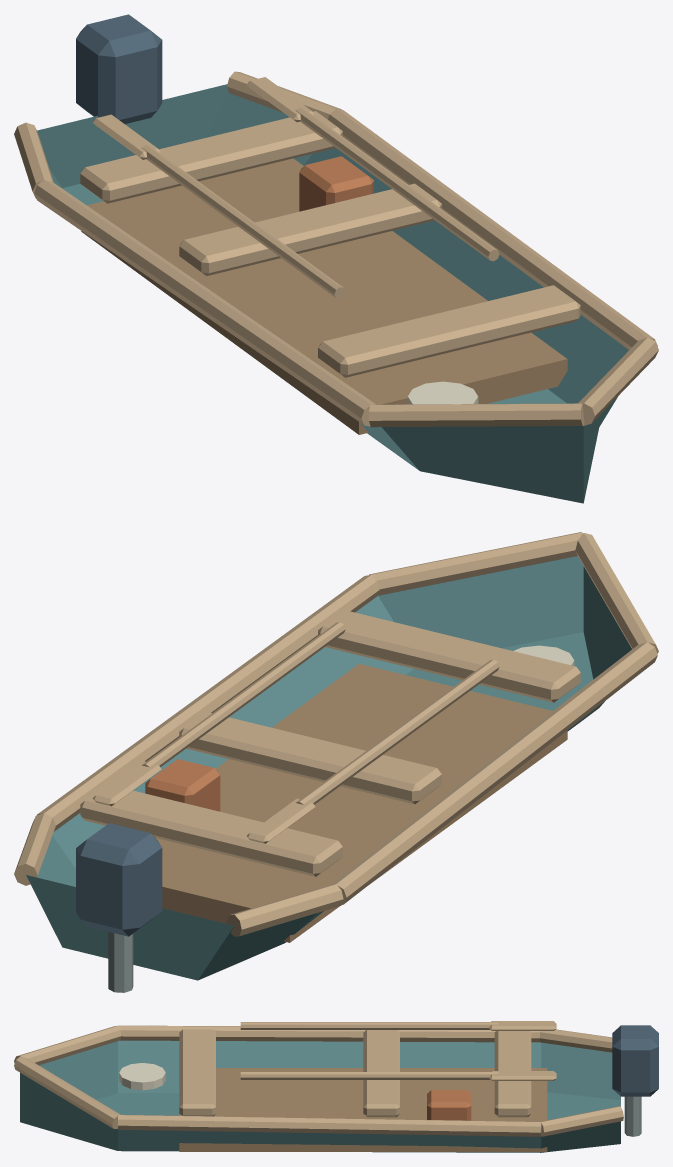
The model's file is boat.glb.
3 renders of one model, top to bottom at view 1: azimuth 30°, elevation 25°; view 2: azimuth 150°, elevation 25°; view 3: azimuth 270°, elevation 25°, orthographic. The views are drawn at different scales.
Parts seen in each view (by area): view 1: cross bench, deck, painted fishing hull, outboard motor, fuel can, mooring coil; view 2: cross bench, painted fishing hull, deck, outboard motor, fuel can, motor shaft, mooring coil; view 3: cross bench, painted fishing hull, deck, outboard motor, fuel can, mooring coil, motor shaft.
Boxes of the visible parts, x1,y1,x2,y2 form: cross bench: (14,71,658,427); deck: (81,158,567,434); painted fishing hull: (37,84,628,503); outboard motor: (76,14,162,123); fuel can: (299,156,373,211); mooring coil: (408,381,478,404); cross bench: (14,532,658,936); painted fishing hull: (26,556,631,980); deck: (155,663,567,942); outboard motor: (76,823,162,936); fuel can: (145,759,220,811); motor shaft: (108,932,133,992); mooring coil: (513,645,574,665); cross bench: (14,1021,623,1136); painted fishing hull: (20,1040,620,1152); deck: (179,1068,547,1151); outboard motor: (612,1025,658,1096); fuel can: (427,1090,471,1120); mooring coil: (119,1063,165,1090); motor shaft: (624,1096,641,1136).
Size of the model in its own units: 1.95 by 0.91 by 5.26.
